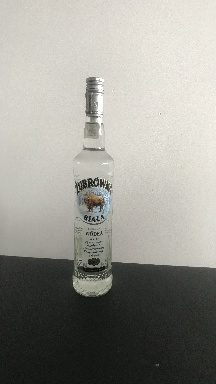butelka: (71, 73, 115, 298)
